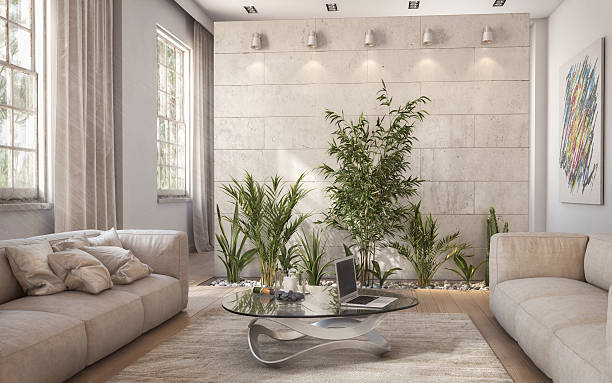large plant: (321, 85, 420, 284), (228, 173, 304, 284), (209, 202, 259, 285), (397, 212, 452, 284)
sofa: (0, 225, 191, 382), (486, 229, 612, 383)
table: (221, 284, 419, 366)
wall art: (556, 33, 607, 207)
